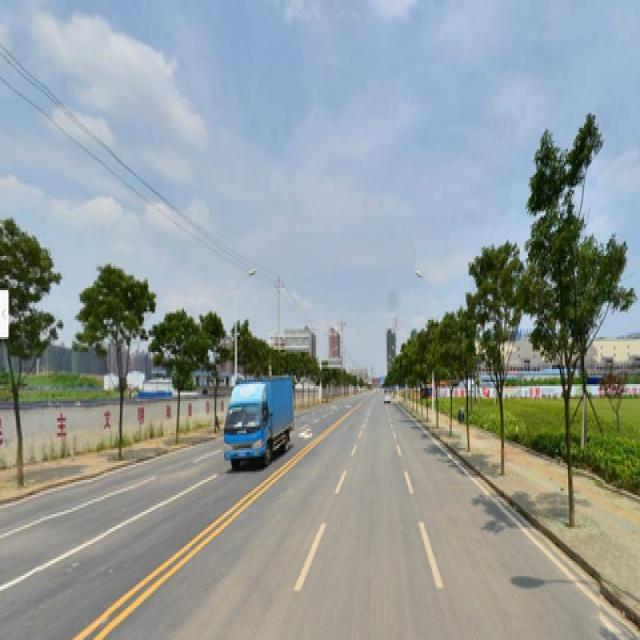koel: (523, 134, 613, 534)
